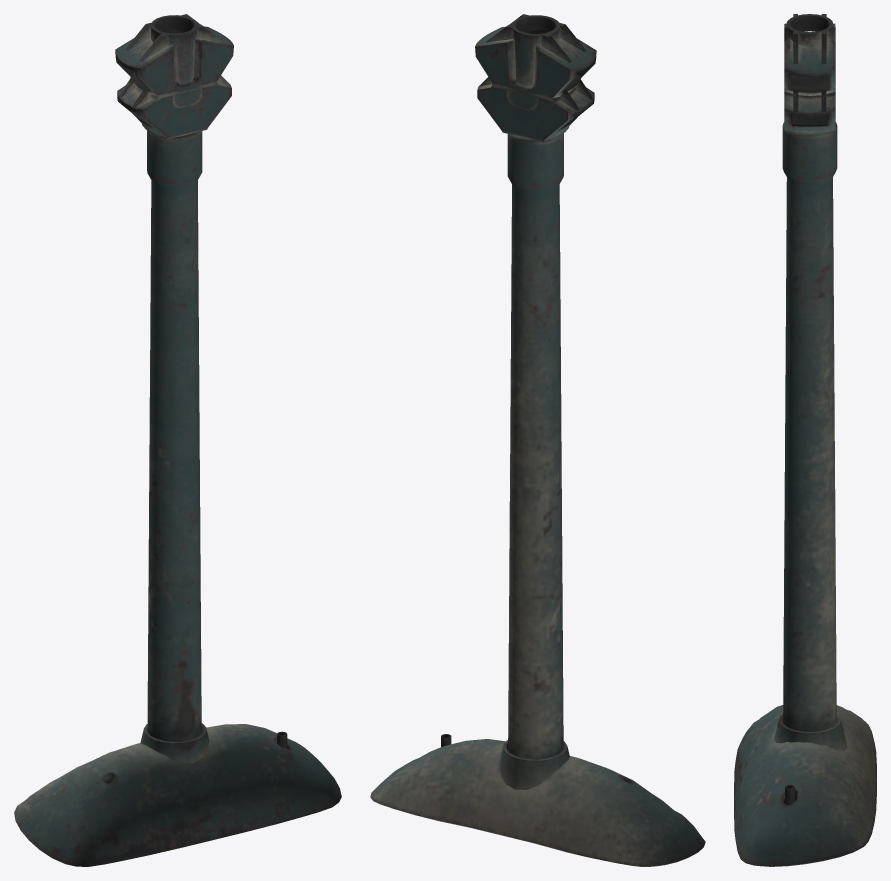
File: Gun_01.glb
The picture shows the model from 3 angles, left to right: view 1: azimuth 30°, elevation 25°; view 2: azimuth 150°, elevation 25°; view 3: azimuth 270°, elevation 25°; orthographic projection. The views are drawn at different scales.
Parts seen in each view (by area): view 1: set_0_group_0; view 2: set_0_group_0; view 3: set_0_group_0.
Part boxes in pixels (<box>): set_0_group_0: <box>14,14,341,866</box>; set_0_group_0: <box>370,14,705,866</box>; set_0_group_0: <box>734,14,876,866</box>.
Bounding box in the file's own units: 0.9569 × 2.43 × 0.4042.
Materials: 1 (1 with a texture image).
